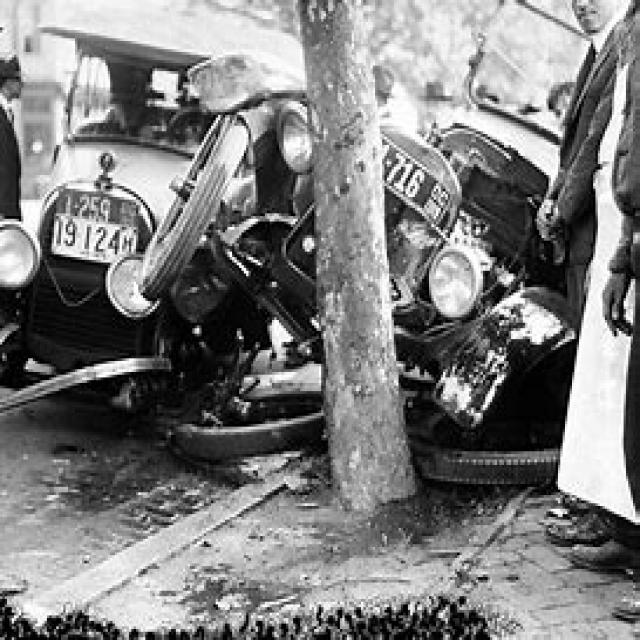Accident: (89, 60, 640, 513)
